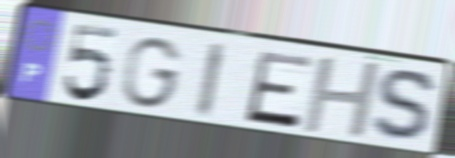5: (60, 21, 120, 105)
E: (242, 48, 317, 131)
G: (120, 35, 186, 111)
H: (300, 56, 384, 141)
I: (193, 39, 229, 122)
S: (368, 66, 443, 146)
